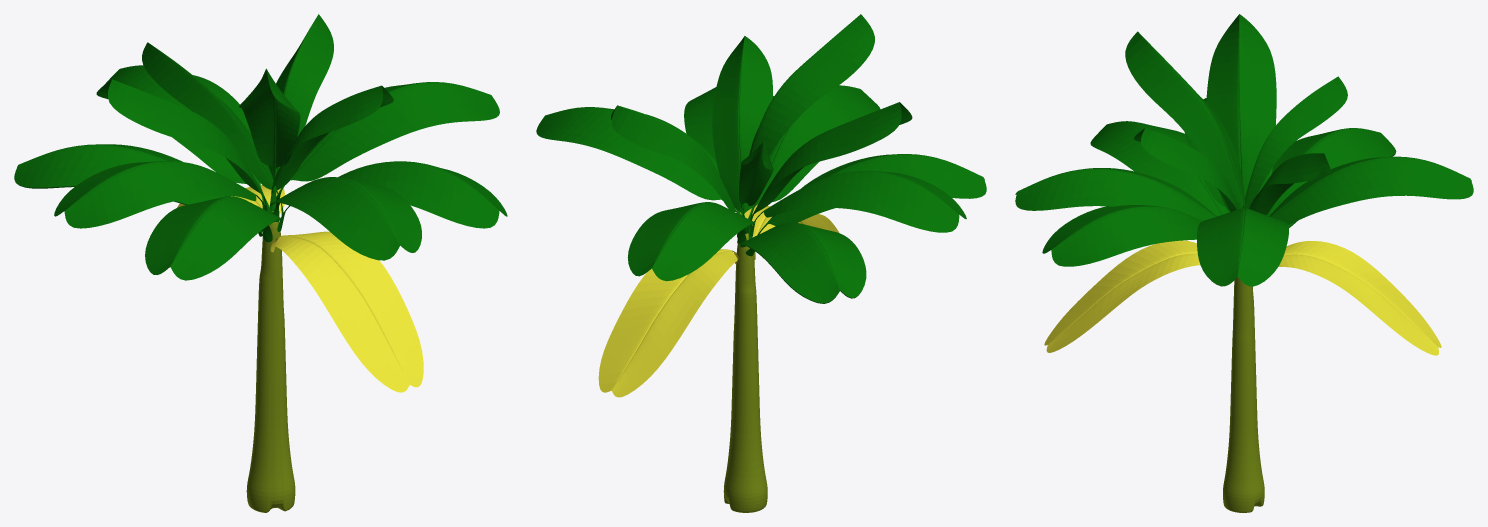
Rendered from banana_tree (1).glb.
The picture shows the model from 3 angles, left to right: view 1: azimuth 30°, elevation 25°; view 2: azimuth 150°, elevation 25°; view 3: azimuth 270°, elevation 25°; orthographic projection. The views are drawn at different scales.
Visible parts, largest first — view 1: Cylinder; view 2: Cylinder; view 3: Cylinder.
Part boxes in pixels (<box>): Cylinder: <box>14,14,507,512</box>; Cylinder: <box>536,14,986,512</box>; Cylinder: <box>1015,14,1473,512</box>.
Size of the model in its own units: 3.07 by 3.3 by 3.08.
